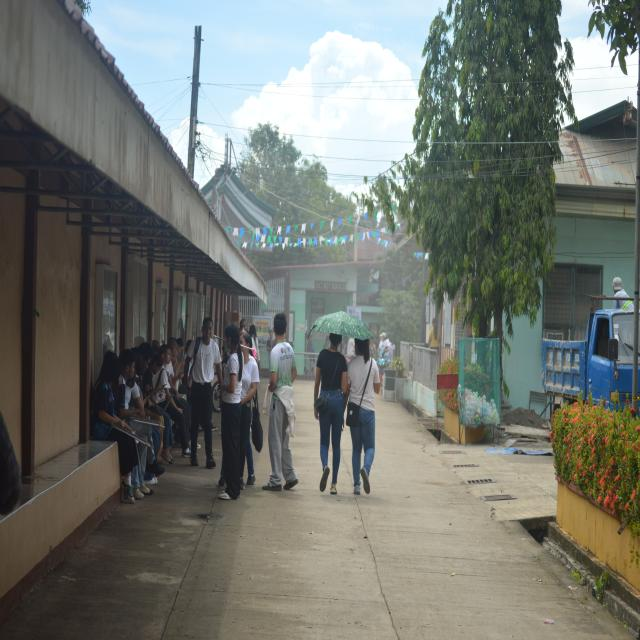person: (91, 352, 137, 503), (263, 313, 298, 490), (185, 318, 222, 468), (314, 334, 347, 494), (347, 340, 380, 494), (219, 324, 242, 499), (240, 332, 259, 489), (613, 277, 629, 298)
